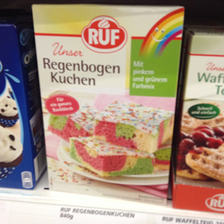cake: (30, 3, 187, 207), (179, 26, 224, 192)
